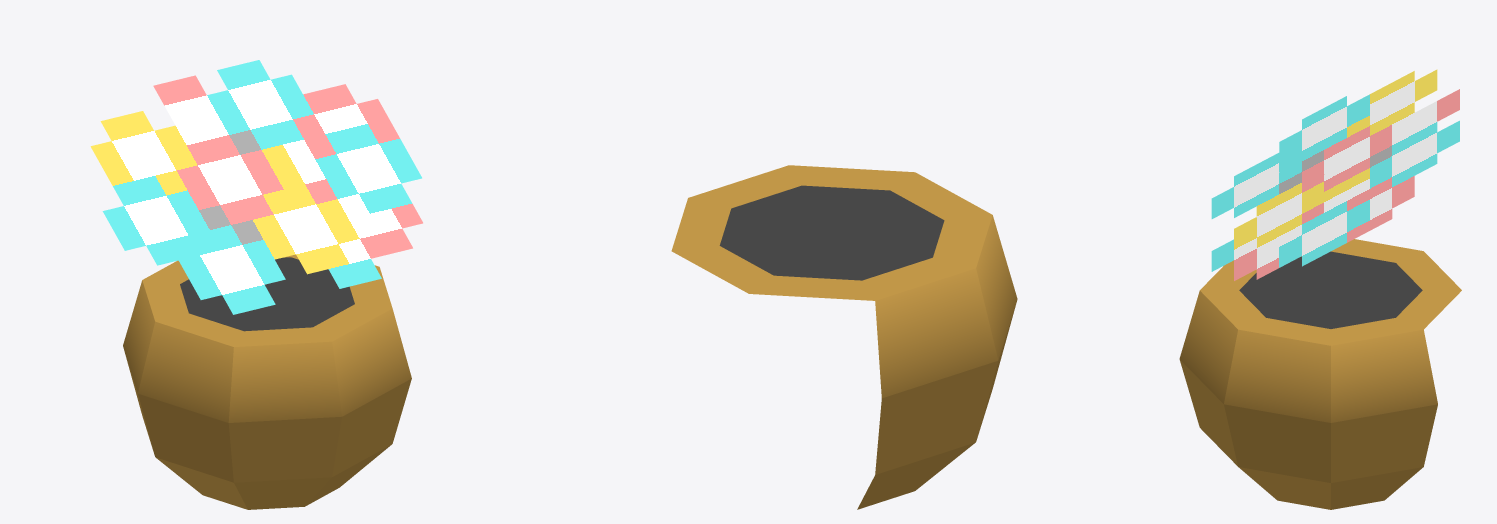
The picture shows the model from 3 angles, left to right: view 1: azimuth 30°, elevation 25°; view 2: azimuth 150°, elevation 25°; view 3: azimuth 270°, elevation 25°; orthographic projection. The views are drawn at different scales.
Visible parts, largest first — view 1: flower_pc01; view 2: flower_pc01; view 3: flower_pc01.
Part boxes in pixels (x1,y1,x2,y2): flower_pc01: (90,60,422,509); flower_pc01: (671,165,1017,509); flower_pc01: (1179,69,1461,509).
Bounding box in the file's own units: 0.9188 × 0.958 × 0.7.
2 materials, 2 textured.
